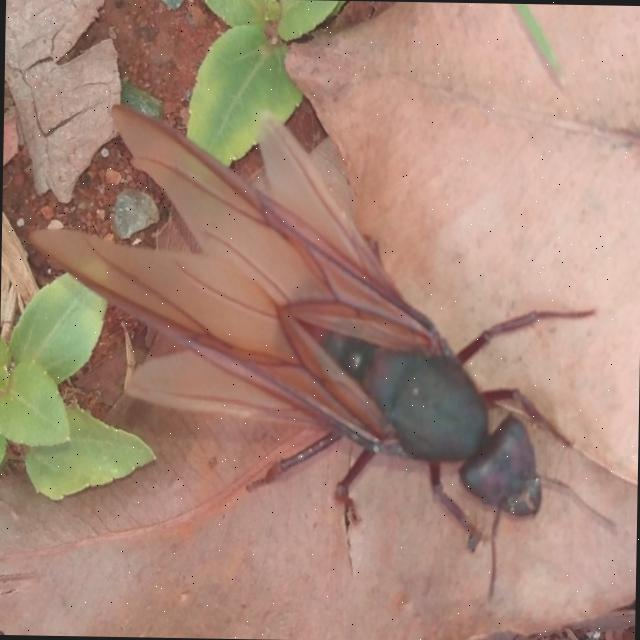Alive-Female-Alate: (21, 102, 624, 606)
